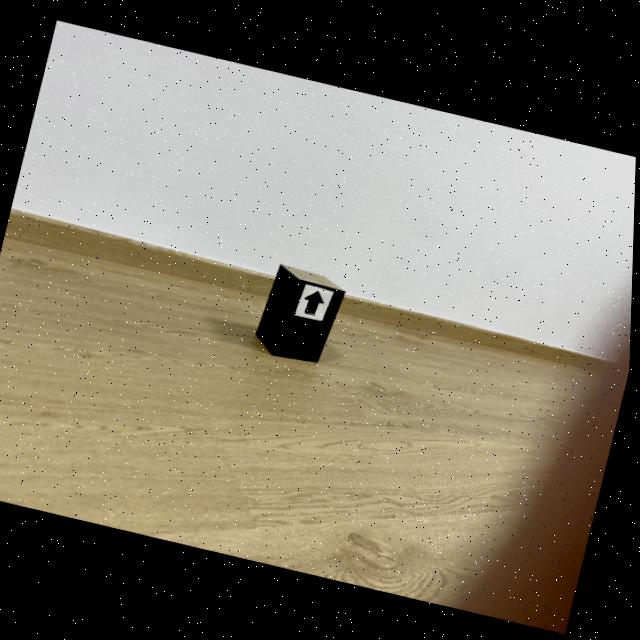UP: (306, 289, 326, 313)
